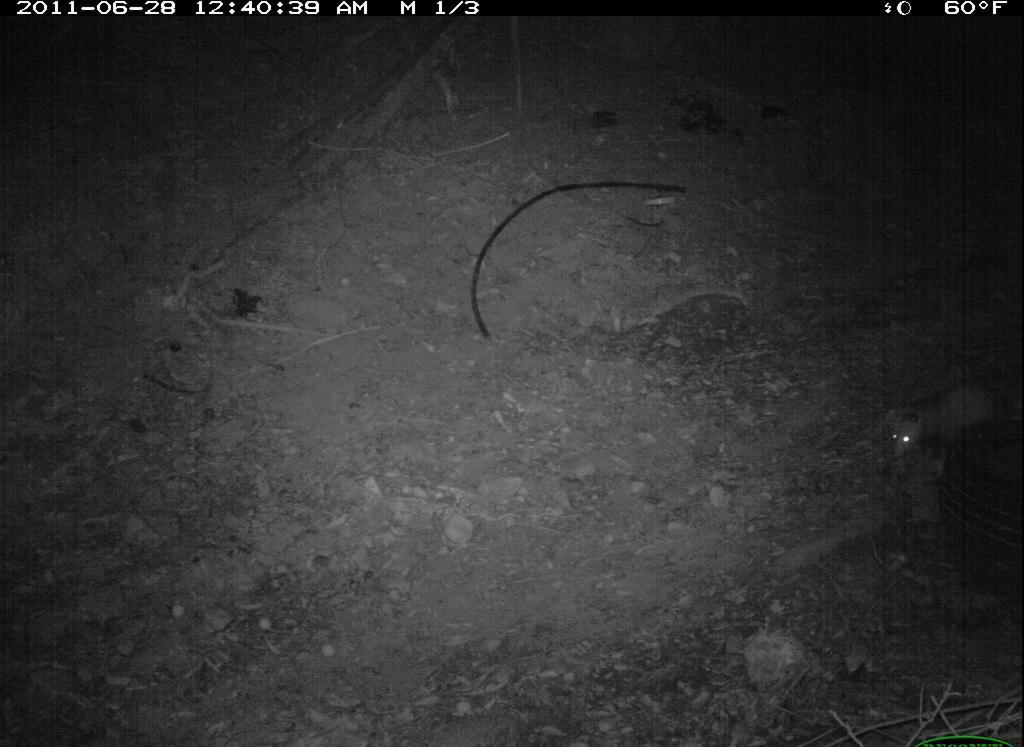opossum: (875, 369, 1010, 472)
